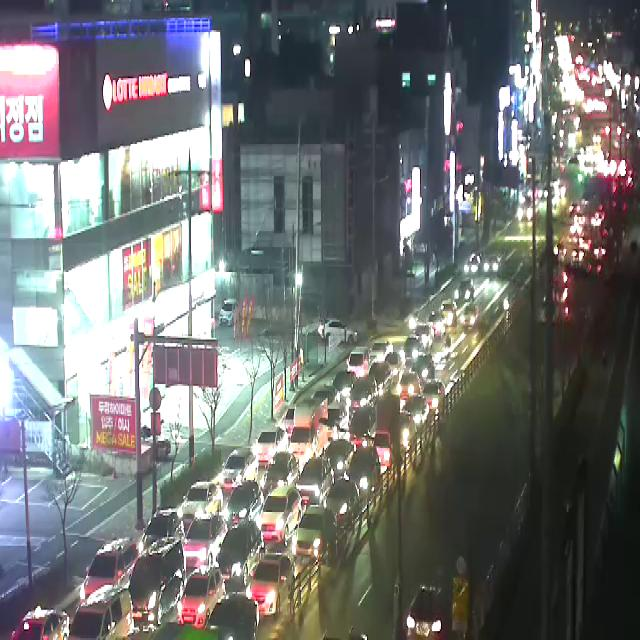Car: (128, 537, 186, 626), (80, 537, 139, 604), (70, 584, 134, 640), (215, 520, 265, 586), (248, 553, 295, 618), (178, 565, 224, 628), (259, 486, 302, 546), (177, 482, 223, 538), (292, 507, 336, 563), (184, 515, 228, 570), (205, 596, 259, 640), (138, 508, 185, 558), (405, 585, 446, 640), (11, 605, 69, 640), (225, 480, 264, 532), (323, 478, 360, 530), (261, 452, 300, 501), (296, 457, 334, 507), (346, 446, 380, 501), (219, 448, 258, 493), (252, 427, 288, 469), (324, 439, 354, 478), (349, 404, 375, 446), (318, 318, 358, 345), (349, 377, 378, 412), (403, 394, 428, 430), (328, 402, 348, 442), (369, 360, 392, 394), (333, 370, 357, 402), (424, 378, 446, 412), (412, 354, 435, 386), (400, 411, 417, 452), (397, 372, 421, 400), (369, 341, 393, 366), (404, 338, 424, 368), (385, 353, 404, 384), (219, 298, 240, 326), (311, 386, 340, 406), (464, 250, 486, 276), (428, 310, 446, 338), (482, 252, 504, 274), (460, 304, 480, 328), (416, 322, 433, 348), (284, 405, 296, 438), (442, 299, 456, 327), (456, 281, 474, 302)
Truck: (290, 398, 328, 468), (375, 394, 400, 469), (347, 347, 379, 379)
